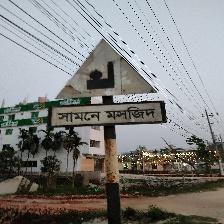Mosque in front: (49, 39, 165, 129)
